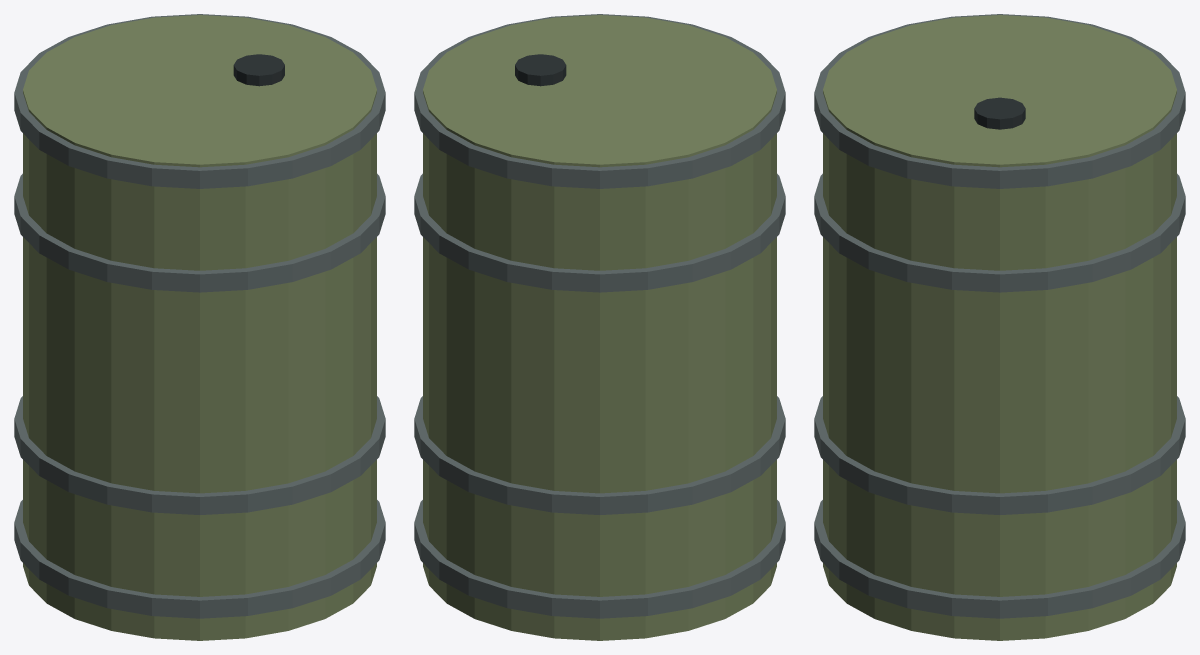
The model's file is barrel.glb.
3 renders of one model, left to right at view 1: azimuth 30°, elevation 25°; view 2: azimuth 150°, elevation 25°; view 3: azimuth 270°, elevation 25°, orthographic.
Visible parts, largest first — view 1: barrel; view 2: barrel; view 3: barrel.
Part boxes in pixels (<box>): barrel: <box>14,14,385,640</box>; barrel: <box>414,14,785,640</box>; barrel: <box>814,14,1185,640</box>.
Size of the model in its own units: 0.65 by 0.94 by 0.65.
